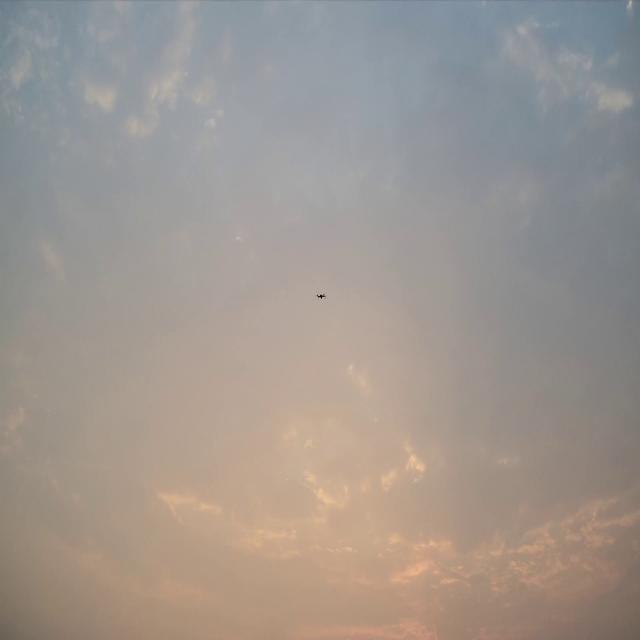UAV: (316, 292, 325, 300)
